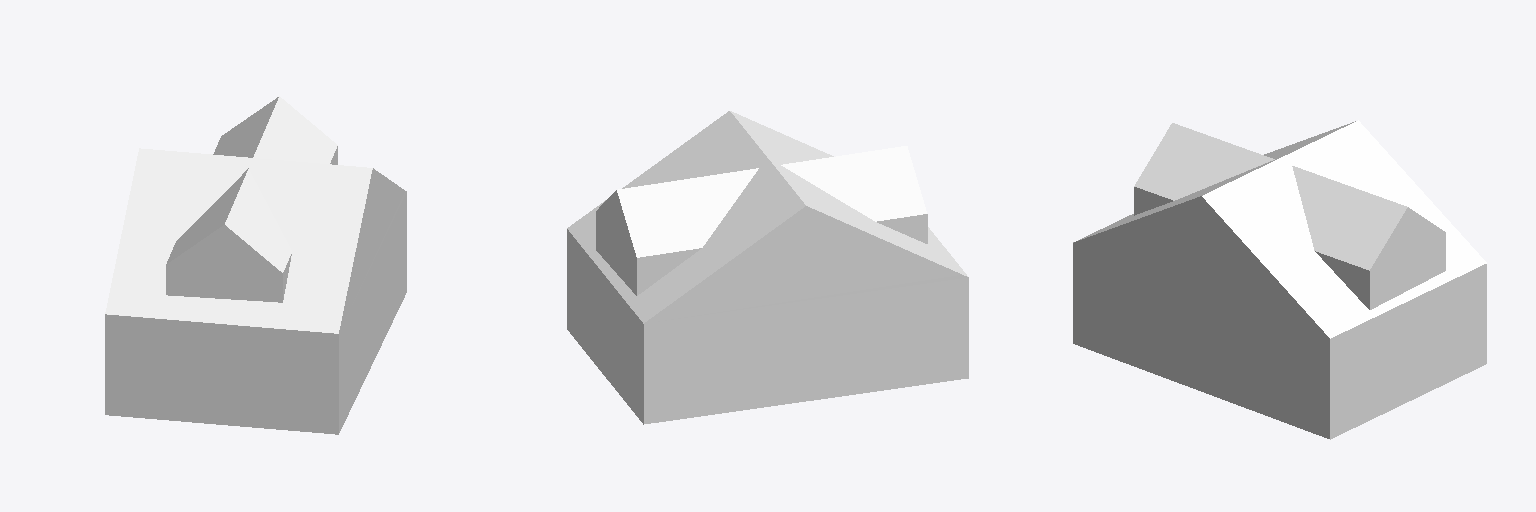
Rendered from house_Shape 346.obj.
3 views of the same model, side by side, from view 1: azimuth 30°, elevation 25°; view 2: azimuth 150°, elevation 25°; view 3: azimuth 270°, elevation 25° (orthographic).
Parts seen in each view (by area): view 1: CityEngineMaterial_18, CityEngineMaterial_227, CityEngineMaterial_194; view 2: CityEngineMaterial_227, CityEngineMaterial_18, CityEngineMaterial_194; view 3: CityEngineMaterial_227, CityEngineMaterial_18, CityEngineMaterial_194.
Part boxes in pixels (x1,y1,x2,y2): CityEngineMaterial_18: (105,96,372,333); CityEngineMaterial_227: (105,146,406,434); CityEngineMaterial_194: (340,168,404,326); CityEngineMaterial_227: (567,190,968,424); CityEngineMaterial_18: (567,111,967,323); CityEngineMaterial_194: (651,206,961,318); CityEngineMaterial_227: (1073,187,1486,439); CityEngineMaterial_18: (1073,120,1486,338); CityEngineMaterial_194: (1079,196,1323,332).
Size of the model in its own units: 15.84 by 8.41 by 16.15.